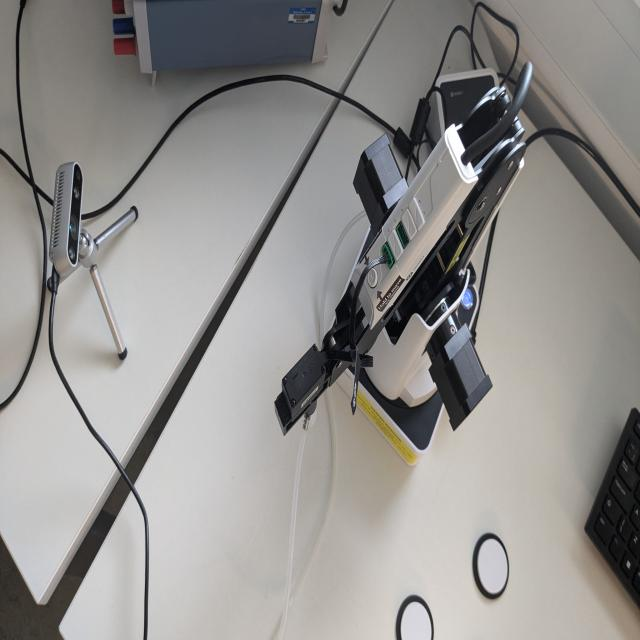Robot-end-effector-HF8z: (272, 340, 330, 448)
